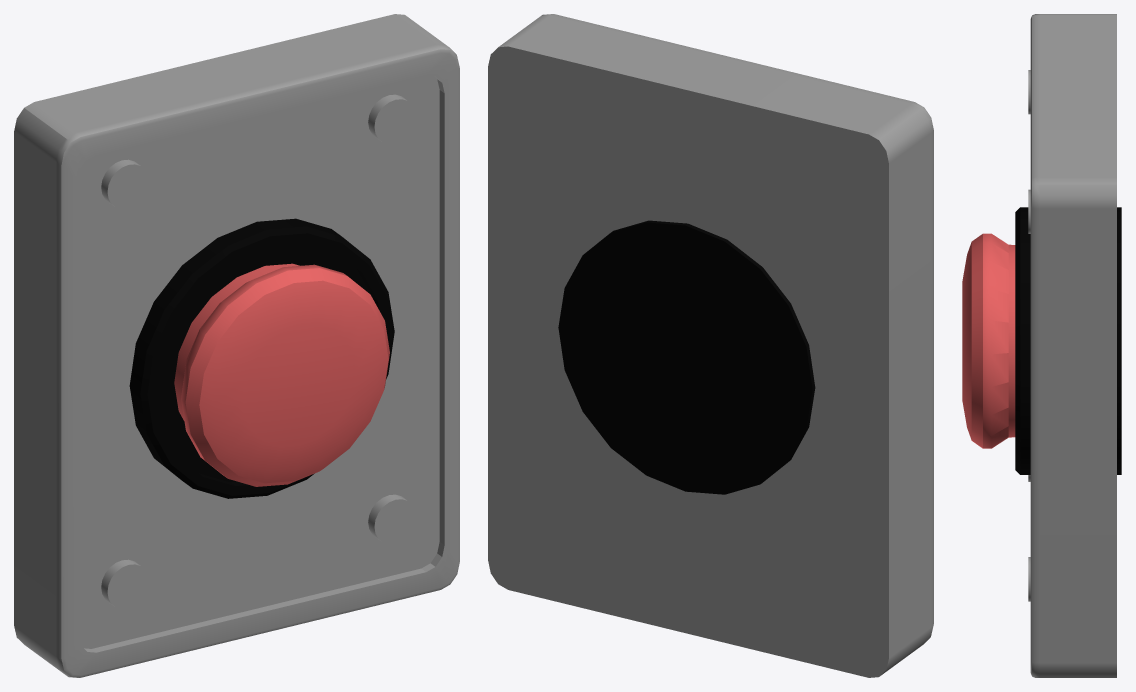
Rendered from Button.fbx.
3 renders of one model, left to right at view 1: azimuth 30°, elevation 25°; view 2: azimuth 150°, elevation 25°; view 3: azimuth 270°, elevation 25°, orthographic. The views are drawn at different scales.
Visible parts, largest first — view 1: ButtonMount1, Button1, ButtonBase1, ButtonScrew1, ButtonScrew4, ButtonScrew2, ButtonScrew3; view 2: ButtonMount1, ButtonBase1; view 3: ButtonMount1, Button1, ButtonBase1.
Part boxes in pixels (bbox=[...]): ButtonMount1: bbox=[14, 14, 459, 677]; Button1: bbox=[174, 263, 389, 486]; ButtonBase1: bbox=[129, 218, 394, 498]; ButtonScrew1: bbox=[101, 559, 149, 609]; ButtonScrew4: bbox=[101, 159, 149, 209]; ButtonScrew2: bbox=[368, 494, 416, 544]; ButtonScrew3: bbox=[368, 94, 416, 144]; ButtonMount1: bbox=[488, 14, 933, 677]; ButtonBase1: bbox=[558, 220, 815, 494]; ButtonMount1: bbox=[1030, 14, 1116, 677]; Button1: bbox=[962, 233, 1015, 448]; ButtonBase1: bbox=[1015, 207, 1121, 474].
Bounding box in the file's own units: 5.1 × 6.6 × 1.91.
